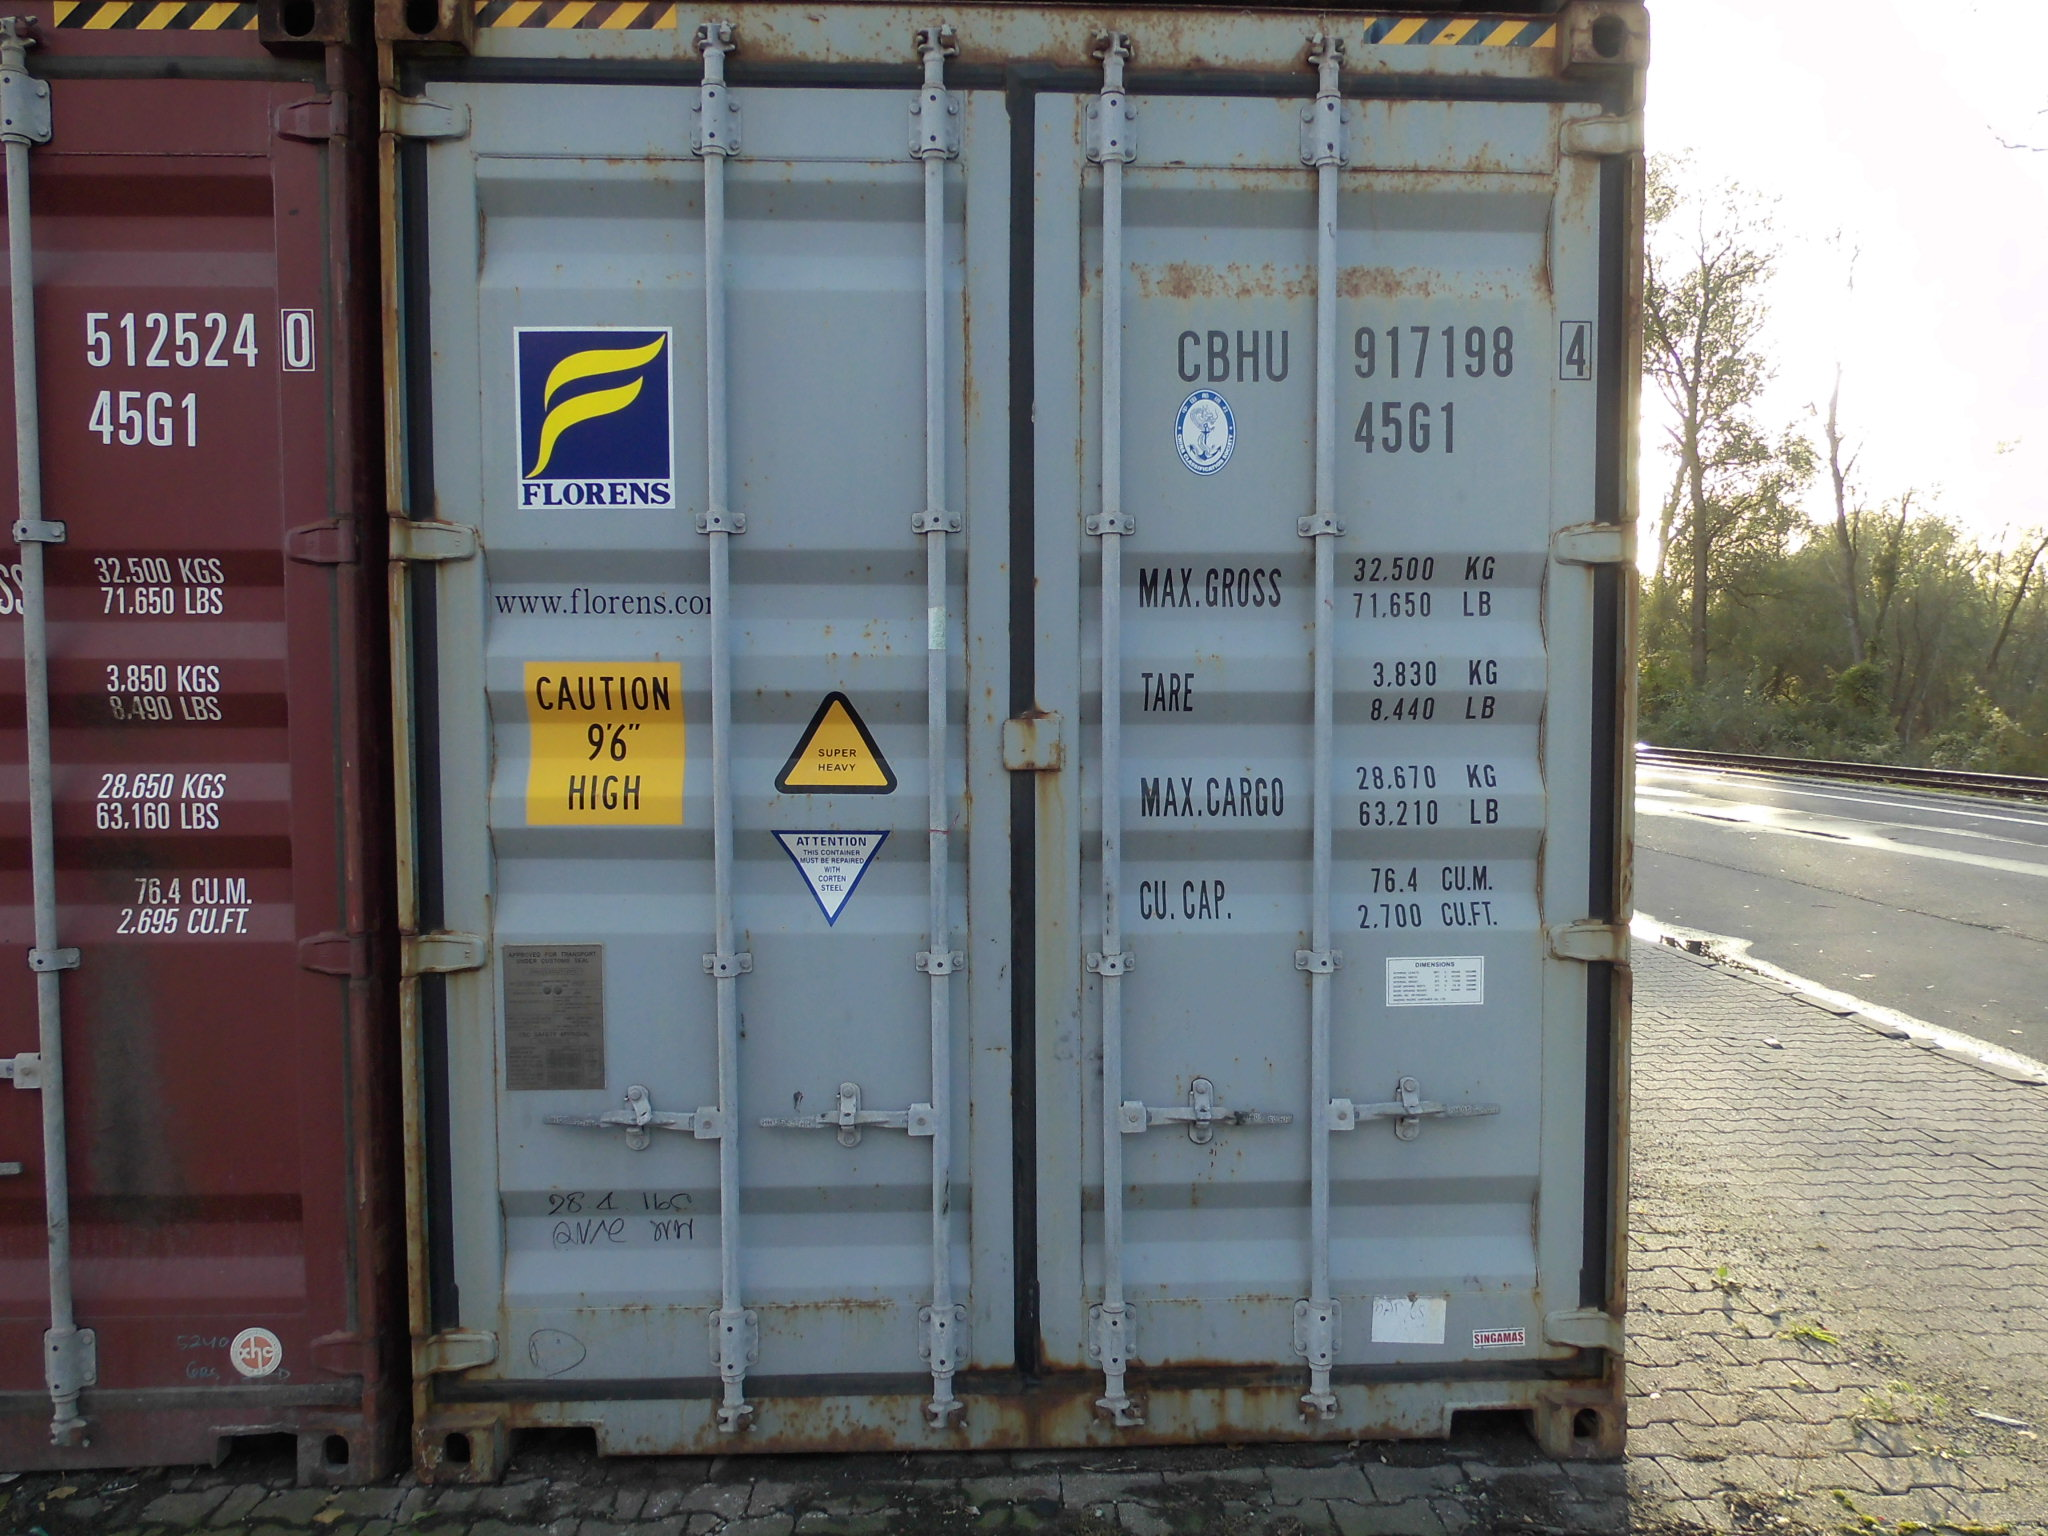container_door: (377, 2, 1638, 1454)
